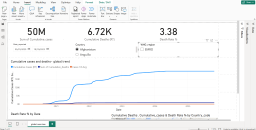

This screenshot's page, from the dashboard's own definition file:
{"tool":"powerbi","page":{"name":"global overview","canvas":[1280,720],"ordinal":0},"visuals":[{"type":"card","fields":{"Values":["Sum(WHO-COVID-19-global-data.Cumulative_cases)"]},"box":[10,0,286,109],"z":0},{"type":"card","fields":{"Values":["WHO-COVID-19-global-data.Cumulative Deaths (RT)"]},"box":[308,0,380,109],"z":1000},{"type":"card","fields":{"Values":["WHO-COVID-19-global-data.Death Rate %"]},"box":[688,0,370,109],"z":2000},{"type":"slicer","fields":{"Values":["WHO-COVID-19-global-data.Date_reported"]},"box":[16.4,109.1,300,81.8],"z":3000},{"type":"slicer","fields":{"Values":["WHO-COVID-19-global-data.Country"]},"box":[354.5,109.1,353.6,81.8],"z":4000},{"type":"slicer","fields":{"Values":["WHO-COVID-19-global-data.WHO_region"]},"box":[708.2,109.1,437.3,81.8],"z":5000},{"type":"lineChart","title":"Cumulative cases and deaths- global trend","fields":{"Category":["Calendar.Date"],"Y":["WHO-COVID-19-global-data.Cumulative Cases (RT)","Sum(WHO-COVID-19-global-data.Cumulative_deaths)","WHO-COVID-19-global-data.Cases 7d Avg"]},"box":[10,204.5,1129.1,287.3],"z":6000},{"type":"lineChart","fields":{"Category":["Calendar.Date"],"Y":["WHO-COVID-19-global-data.Death Rate %"]},"box":[10,491.8,540.9,218.2],"z":7000},{"type":"map","title":"Cumulative Deaths ,  Cumulative_cases & Death Rate % by Country_code","fields":{"Category":["WHO-COVID-19-global-data.Country_code"]},"box":[558.2,499.1,587.3,220.9],"z":8000}]}

Visuals, with their boxes on the page's 1280x720 design canvas (x1, y1, x2, y2). These are canvas units, not pixel positions in the 256x130 screenshot, which may show the page scaled, cropped or inside an application window:
card - Sum(WHO-COVID-19-global-data.Cumulative_cases): {"x1": 10, "y1": 0, "x2": 296, "y2": 109}
card - WHO-COVID-19-global-data.Cumulative Deaths (RT): {"x1": 308, "y1": 0, "x2": 688, "y2": 109}
card - WHO-COVID-19-global-data.Death Rate %: {"x1": 688, "y1": 0, "x2": 1058, "y2": 109}
slicer - WHO-COVID-19-global-data.Date_reported: {"x1": 16, "y1": 109, "x2": 316, "y2": 191}
slicer - WHO-COVID-19-global-data.Country: {"x1": 354, "y1": 109, "x2": 708, "y2": 191}
slicer - WHO-COVID-19-global-data.WHO_region: {"x1": 708, "y1": 109, "x2": 1146, "y2": 191}
"Cumulative cases and deaths- global trend" lineChart: {"x1": 10, "y1": 204, "x2": 1139, "y2": 492}
lineChart - Calendar.Date x WHO-COVID-19-global-data.Death Rate %: {"x1": 10, "y1": 492, "x2": 551, "y2": 710}
"Cumulative Deaths ,  Cumulative_cases & Death Rate % by Country_code" map: {"x1": 558, "y1": 499, "x2": 1146, "y2": 720}
